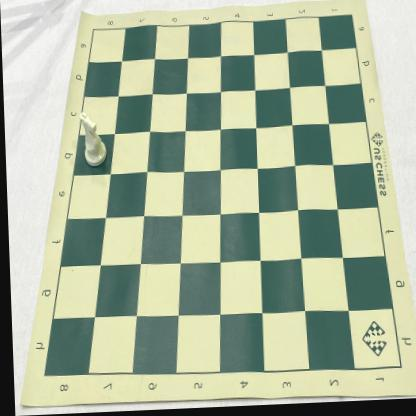white-knight: (78, 111, 106, 169)
